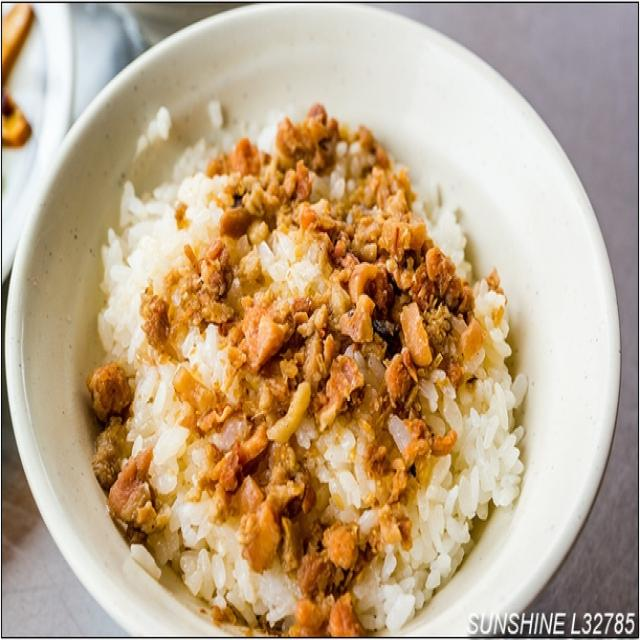猪肉菜式: (59, 61, 566, 604)
